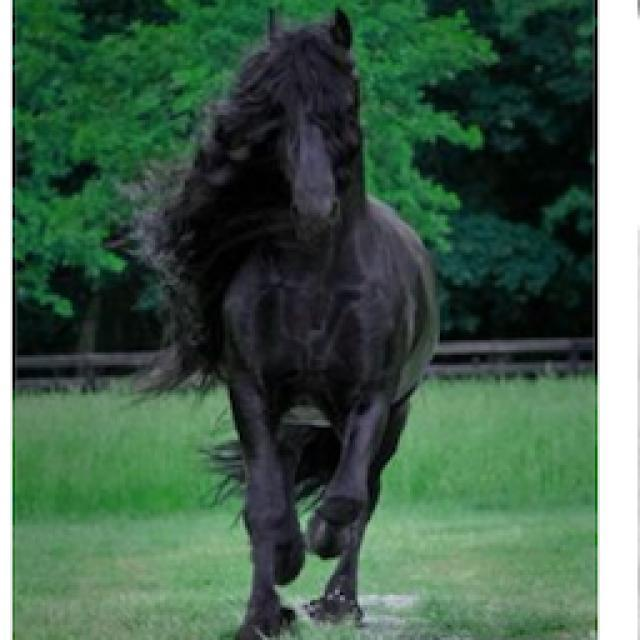Horse: (112, 0, 452, 638)
